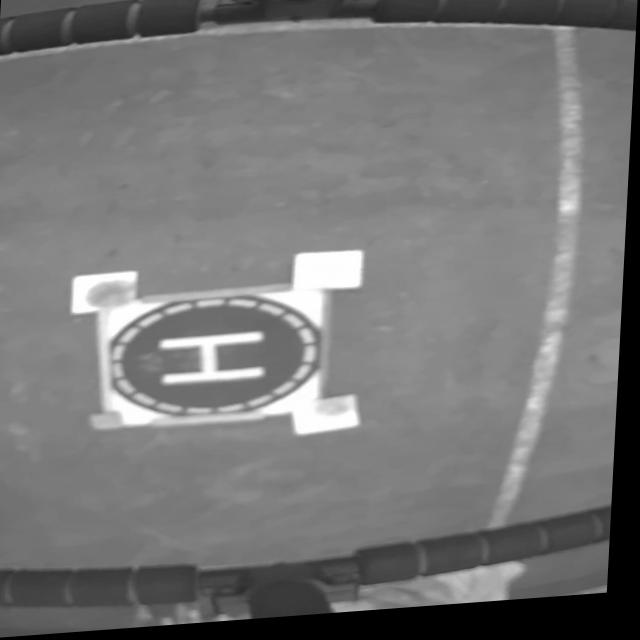Helipad: (164, 334, 270, 387)
